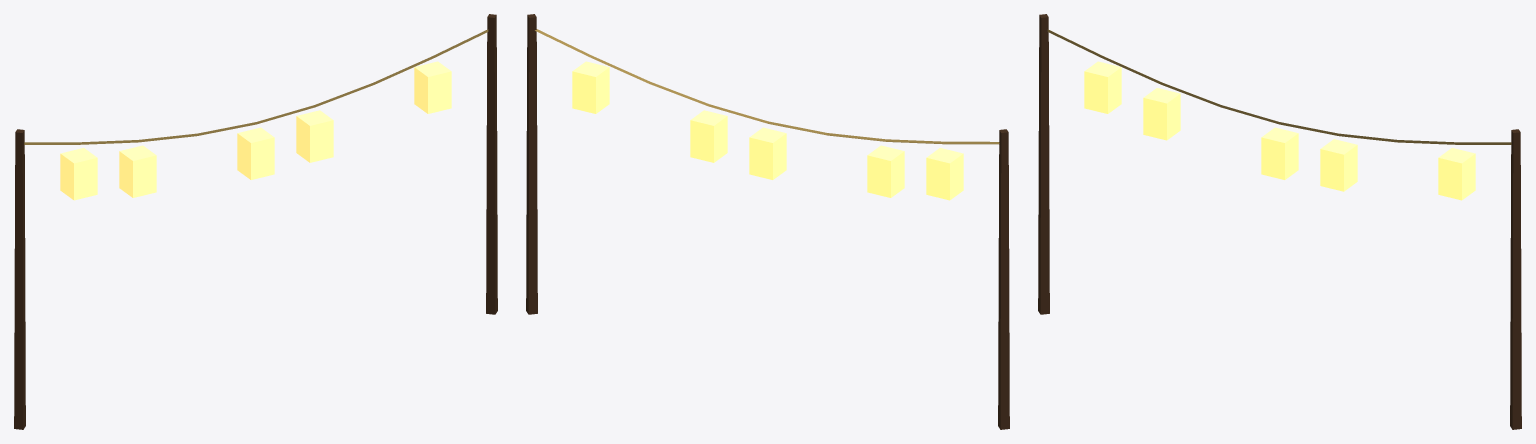
File: a2m_lamp_string.glb
3 views of the same model, side by side, from view 1: azimuth 30°, elevation 25°; view 2: azimuth 150°, elevation 25°; view 3: azimuth 330°, elevation 25° (orthographic).
Visible parts, largest first — view 1: a2m_lamp_string; view 2: a2m_lamp_string; view 3: a2m_lamp_string.
Boxes of the visible parts, x1=… form: a2m_lamp_string: x1=14, y1=14, x2=497, y2=429; a2m_lamp_string: x1=526, y1=14, x2=1009, y2=429; a2m_lamp_string: x1=1038, y1=14, x2=1521, y2=429.
Size of the model in its own units: 4.1 by 2.4 by 0.2.
